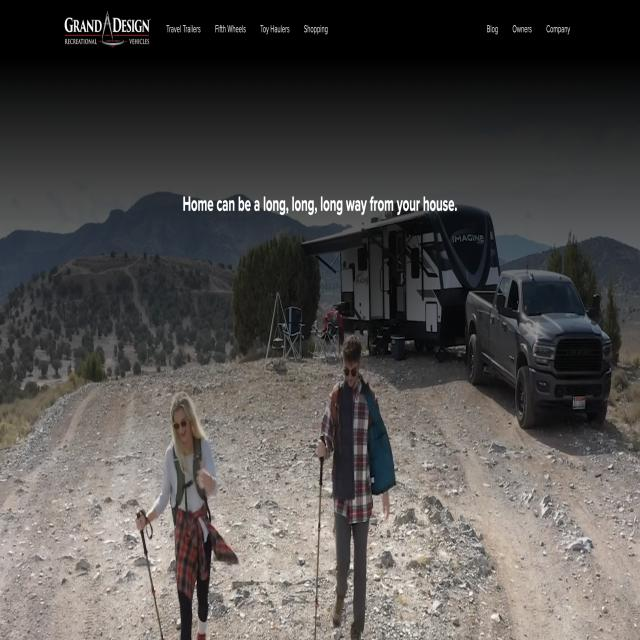Logo: (56, 8, 158, 57)
Navigation: (159, 13, 385, 55)
